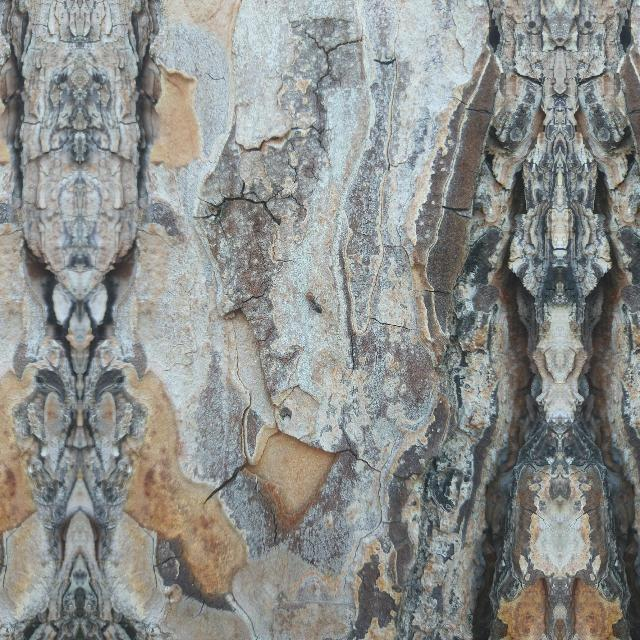Crematogaster: (302, 288, 326, 318)
